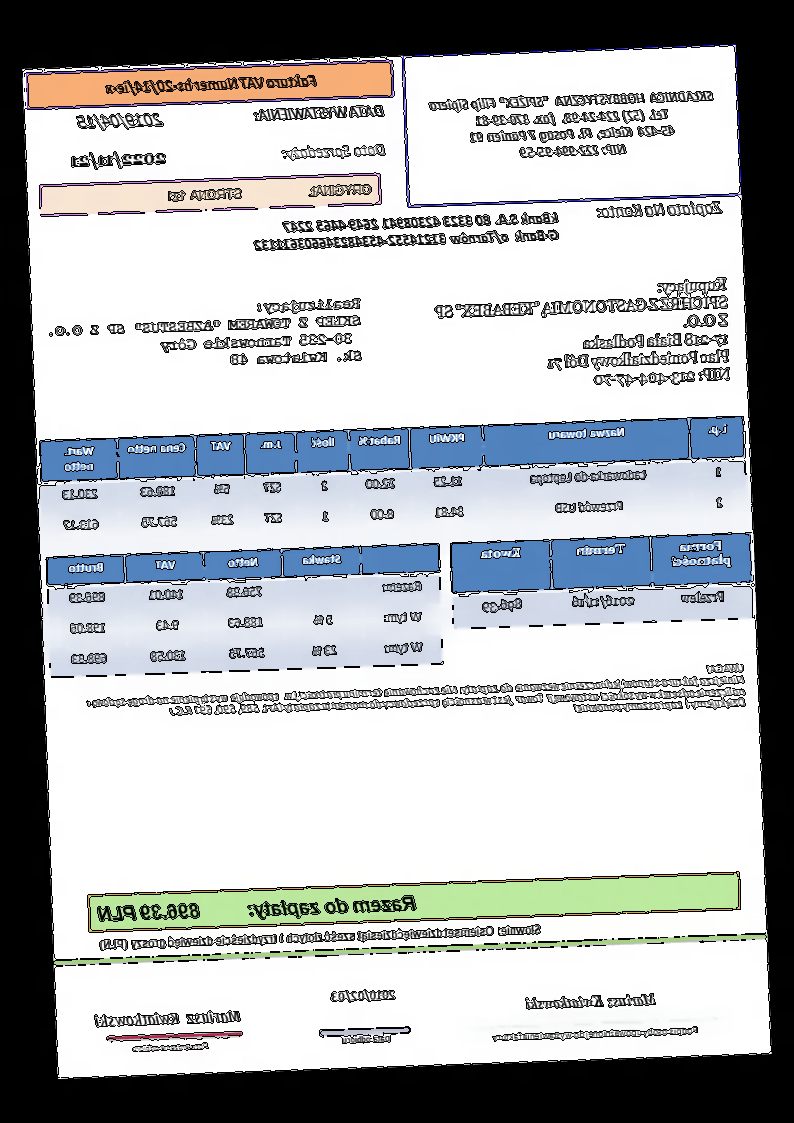Table: (37, 414, 750, 547), (46, 541, 445, 679), (450, 531, 755, 630)
TextBox: (82, 659, 749, 733), (429, 272, 736, 394), (48, 294, 367, 376), (428, 86, 717, 163), (95, 919, 543, 955), (251, 208, 562, 253), (94, 889, 419, 927), (105, 71, 319, 98), (490, 1021, 702, 1047), (163, 179, 374, 205), (89, 1007, 243, 1032), (523, 988, 659, 1013), (593, 197, 727, 221), (252, 100, 386, 123), (69, 148, 170, 174), (281, 139, 388, 163), (74, 109, 167, 132), (130, 1038, 211, 1058), (330, 985, 399, 1006), (340, 1031, 394, 1046)
